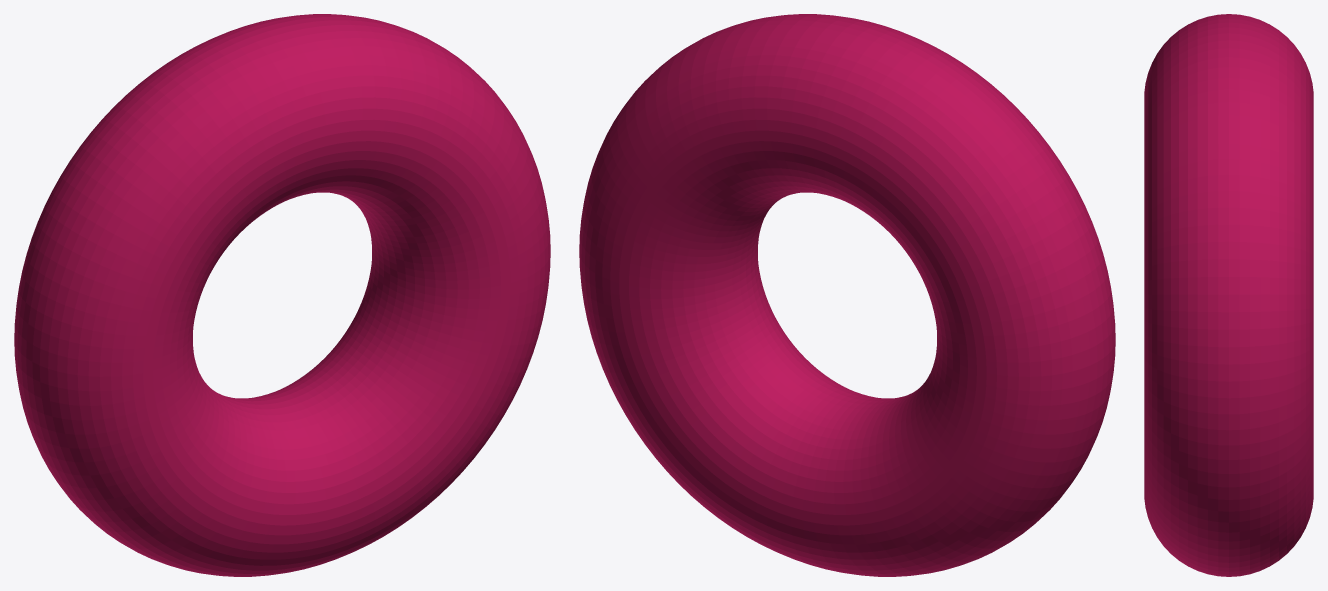
3 renders of one model, left to right at view 1: azimuth 30°, elevation 25°; view 2: azimuth 150°, elevation 25°; view 3: azimuth 270°, elevation 25°, orthographic. The views are drawn at different scales.
Visible parts, largest first — view 1: world; view 2: world; view 3: world.
Boxes of the visible parts, bbox=[...] form: world: bbox=[14, 14, 550, 576]; world: bbox=[579, 14, 1115, 576]; world: bbox=[1144, 14, 1313, 576].
Size of the model in its own units: 29.6 by 29.6 by 8.92.
